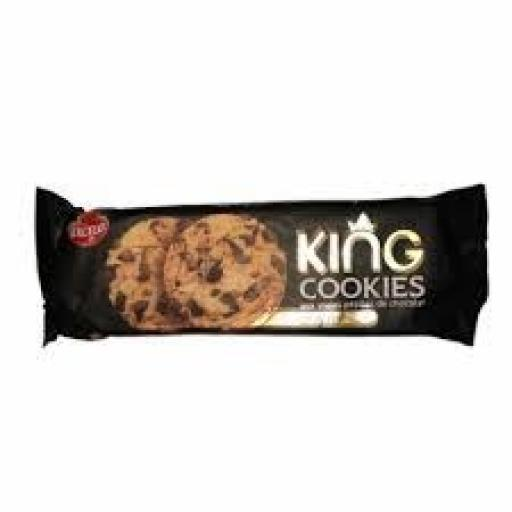king-cooking: (21, 132, 510, 378)
